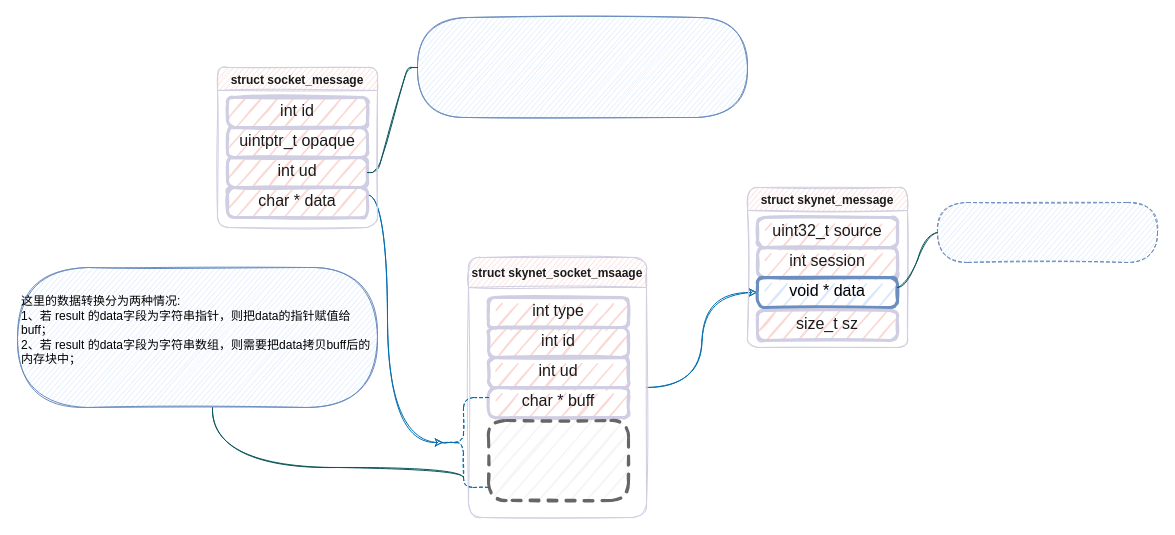
Image size: 1175x535. Some labels were removed from this diagram. Here are the shapes that lost their labels. From the top down, the centre of each, then its label:
At (582,67): "1、对于accpet, ud 表示新连接的id 2、对于数据接收，ud 表示接收到的数据大小 3、对于写入数据过大警告，ud表示待写入数据大小（kb）".
At (1047,232): "这里的data是一个指针，指向了 skynet_socket_message的地址".
At (558,460): "(sz 长度的内存块)".
